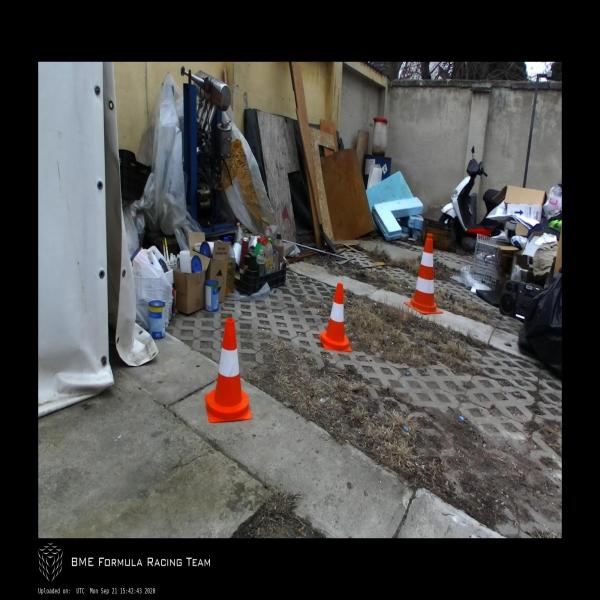large_orange_cone: (404, 233, 442, 314)
orange_cone: (204, 318, 252, 423), (318, 283, 352, 351)
